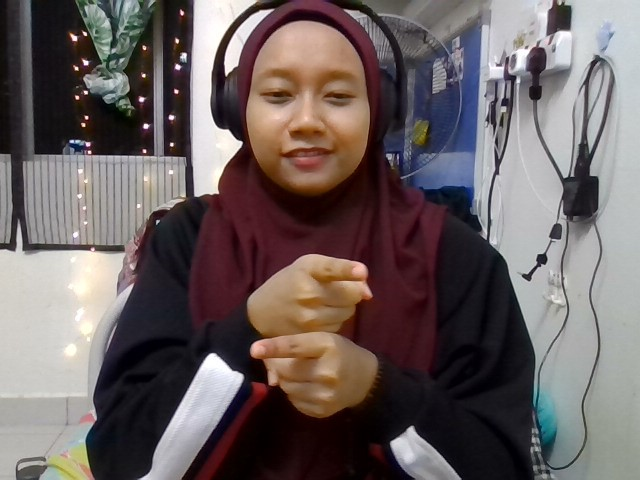Betul: (248, 254, 373, 419)
